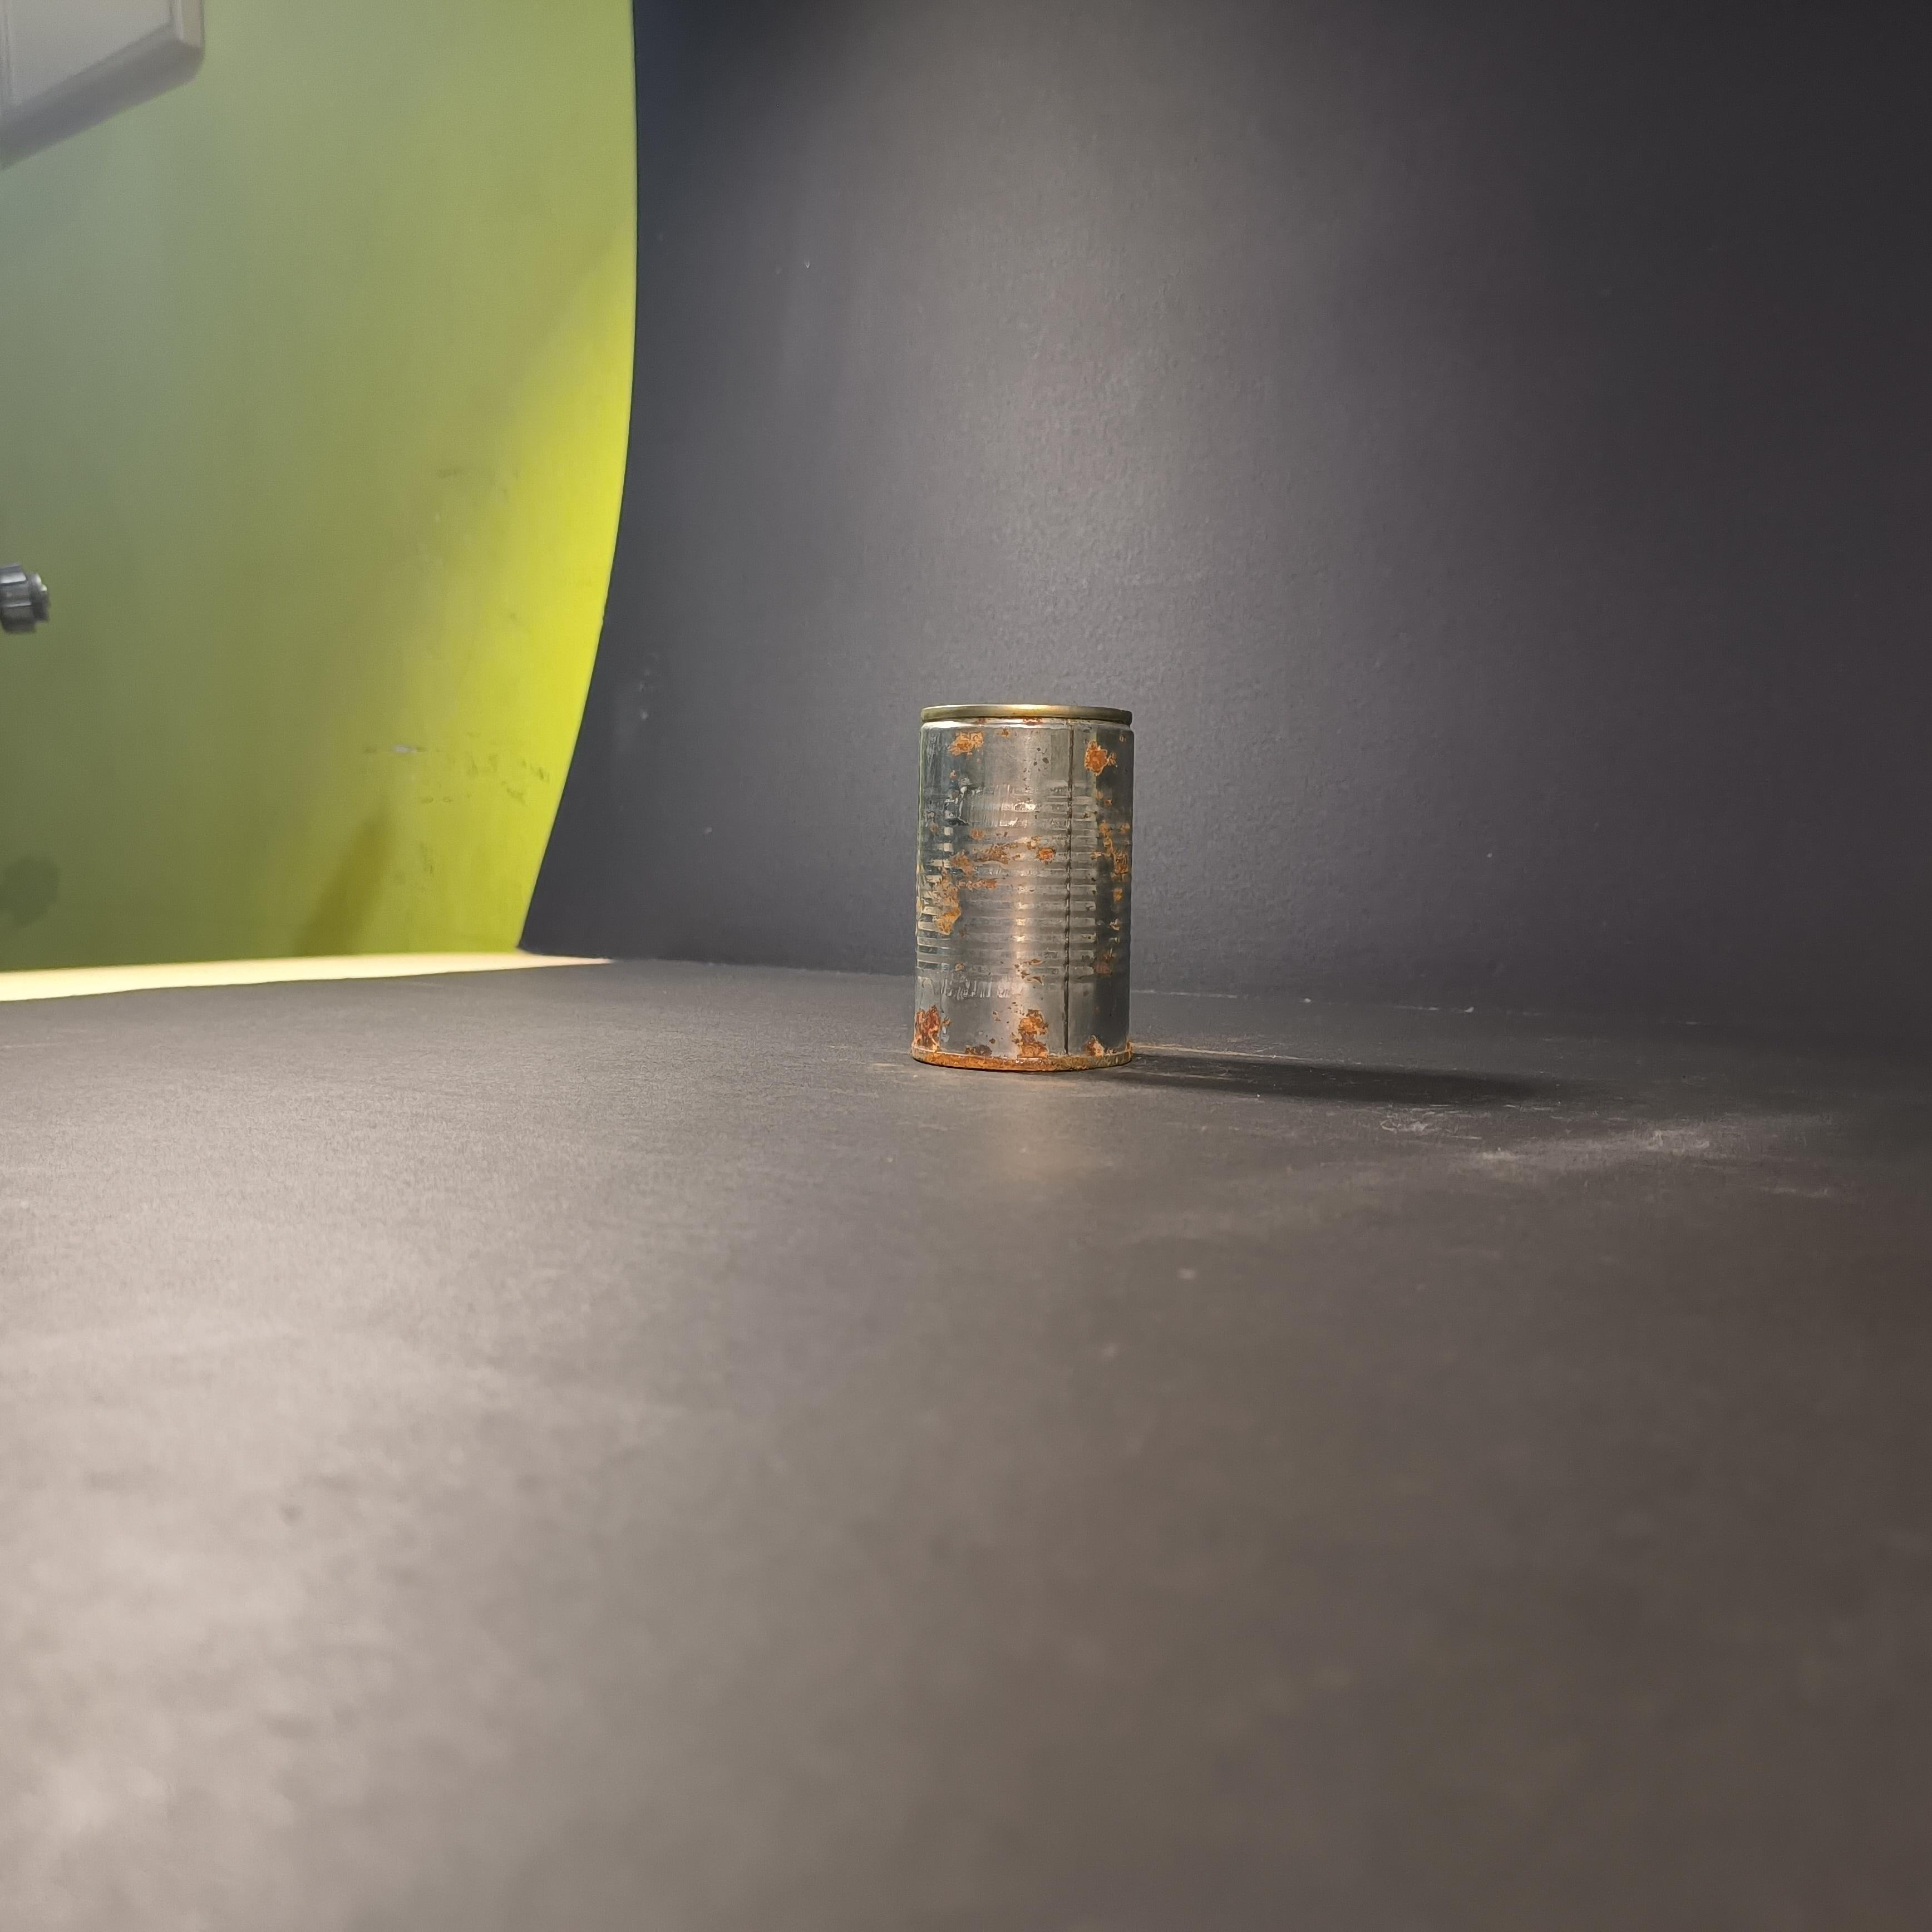Rusted: (893, 679, 1148, 1088)
